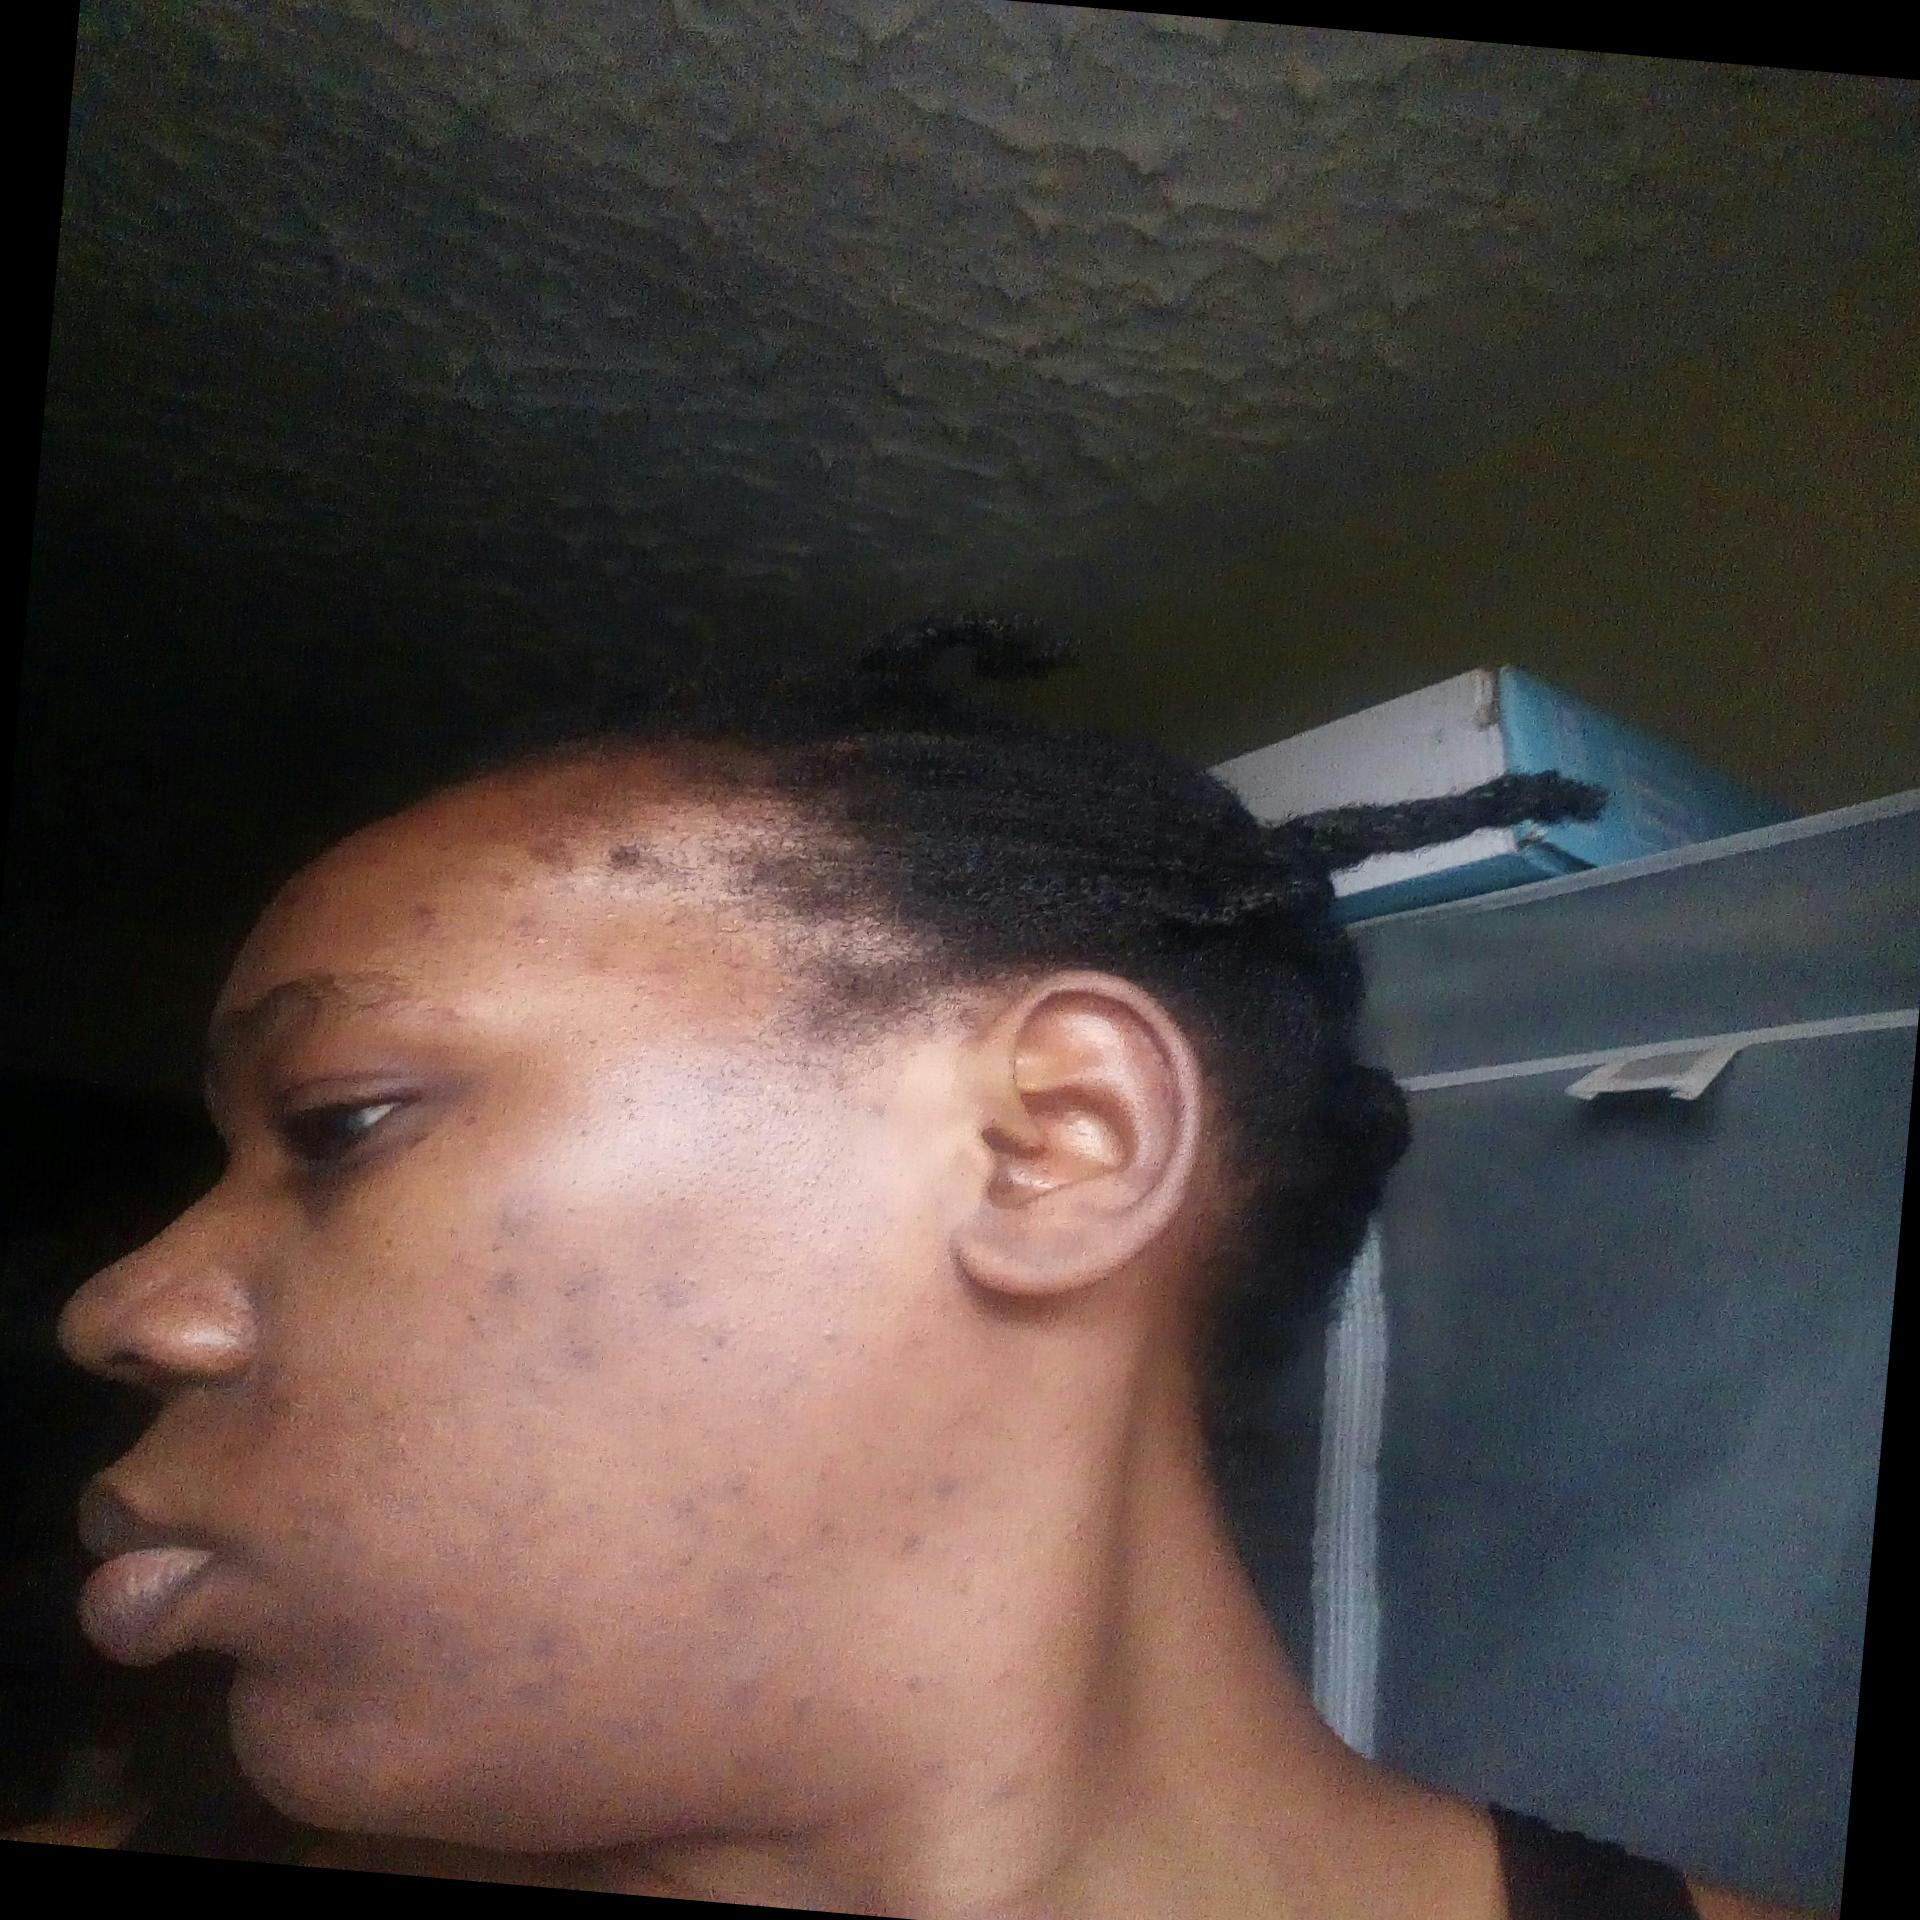Acne: (506, 1625, 596, 1681), (593, 1702, 686, 1755), (471, 1262, 547, 1320), (499, 1361, 568, 1412), (709, 1459, 775, 1510), (879, 1327, 941, 1382), (508, 1674, 570, 1723), (415, 1632, 480, 1677), (543, 1254, 608, 1298), (645, 1538, 710, 1582), (691, 1322, 751, 1370), (547, 1327, 608, 1371), (647, 1482, 710, 1524), (645, 1280, 702, 1326), (807, 1503, 856, 1554), (714, 1660, 770, 1704), (297, 1700, 360, 1739), (791, 1681, 840, 1728), (921, 1463, 972, 1509), (501, 1192, 563, 1229), (890, 1669, 946, 1705), (731, 1519, 784, 1554), (410, 1589, 461, 1623), (888, 1535, 932, 1563)
Dark Circles: (274, 1160, 399, 1229)
